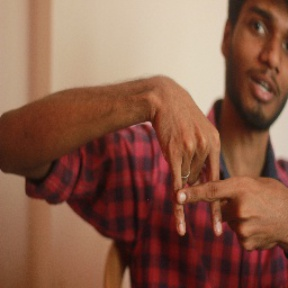H: (149, 135, 250, 242)
